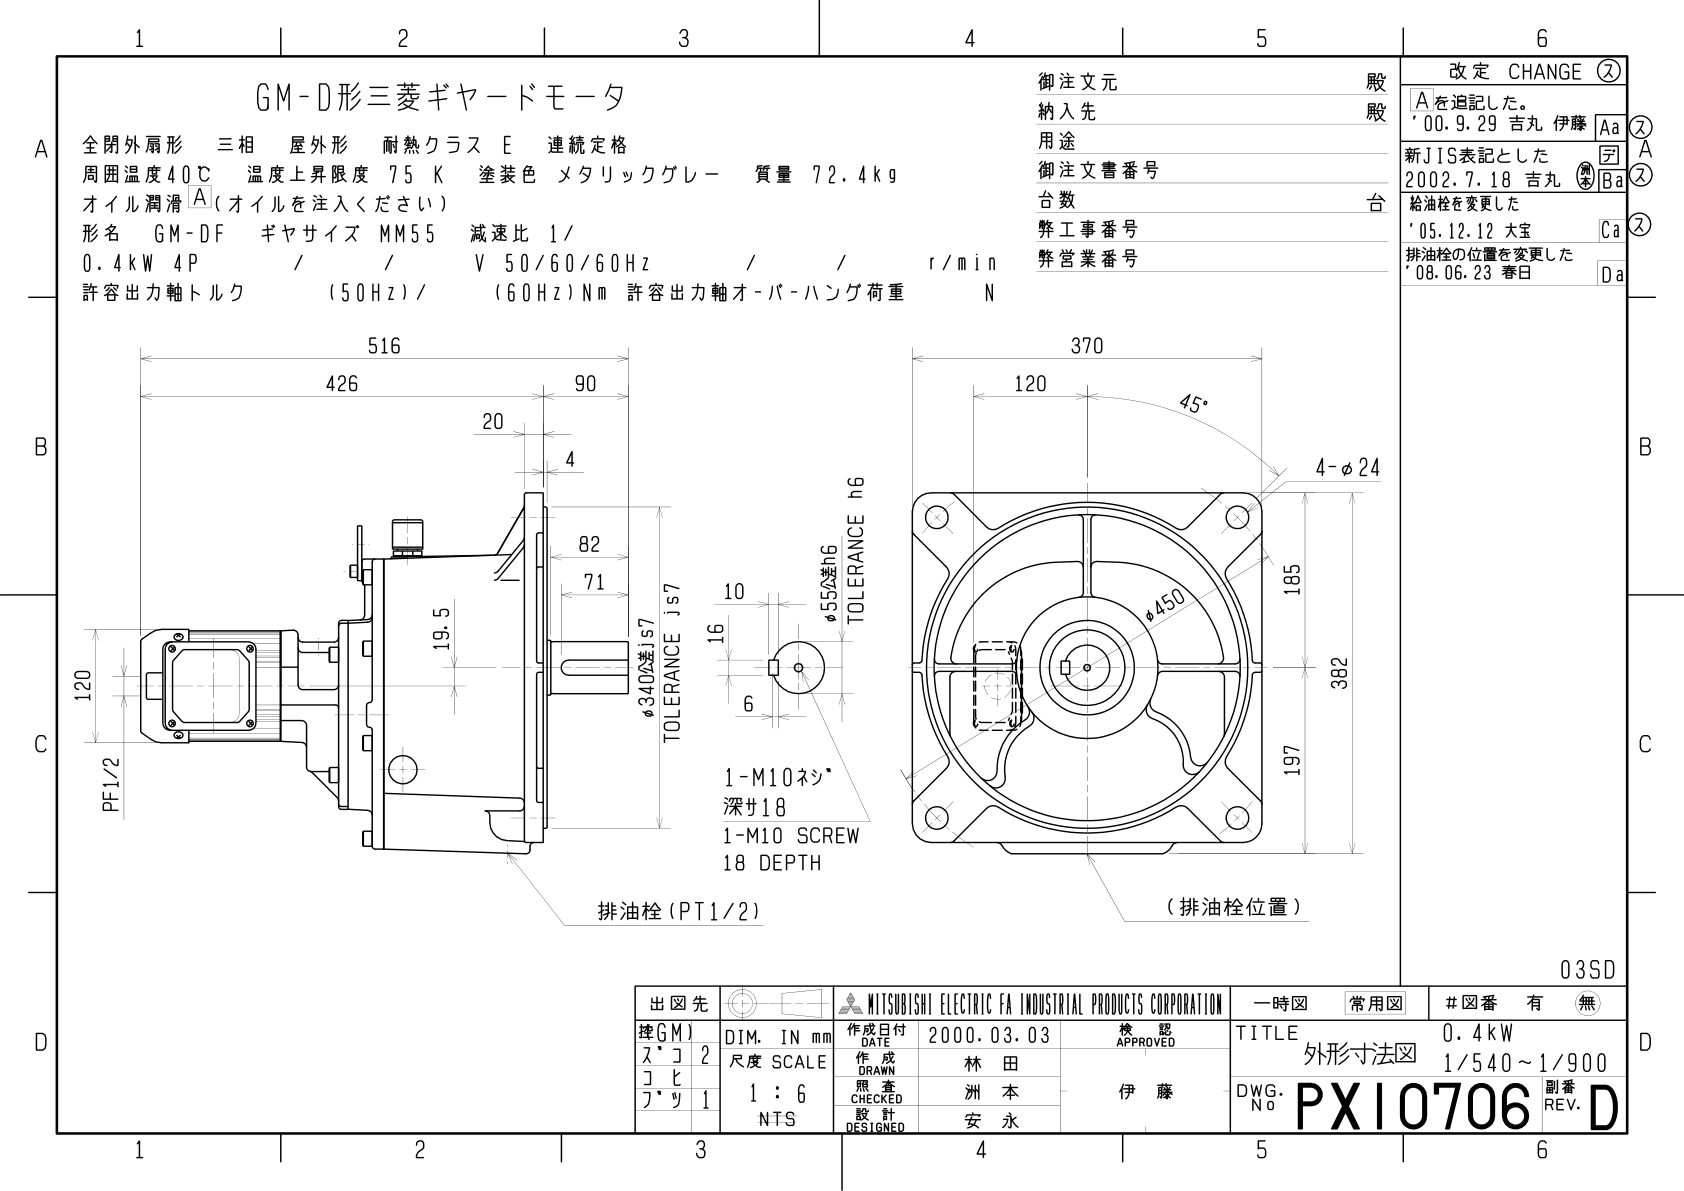GM_D_屋外＿三相_フランジ: (1, 1, 1678, 1178)
